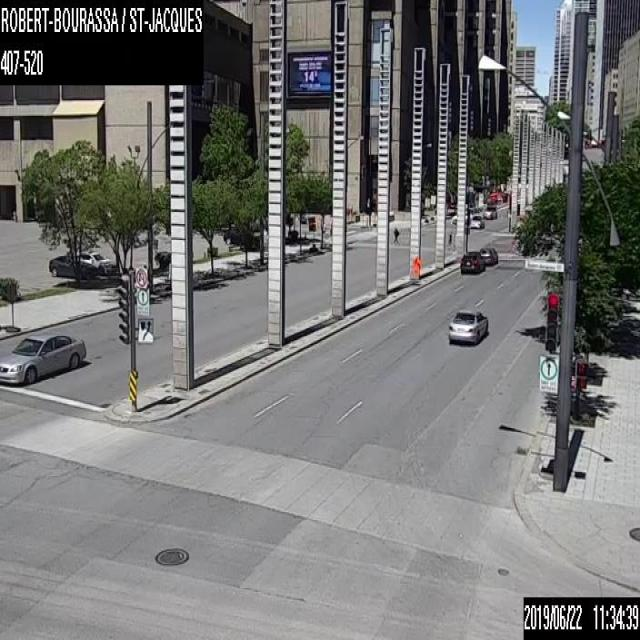construction: (411, 255, 420, 280)
pedestrian: (392, 227, 398, 244)
vehicle: (0, 329, 85, 385), (447, 308, 488, 345), (48, 254, 94, 280), (78, 250, 112, 274), (459, 252, 485, 274), (223, 226, 251, 245), (478, 244, 498, 264), (469, 215, 484, 228), (482, 206, 496, 218)
